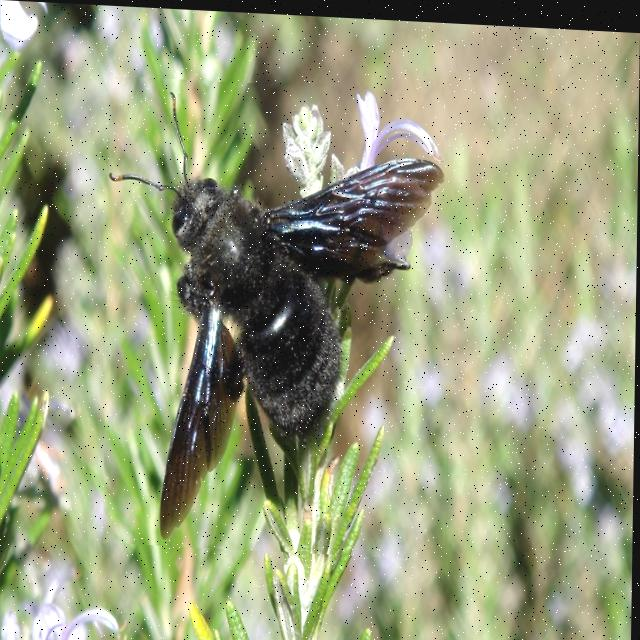Xylocopa: (105, 75, 453, 555)
